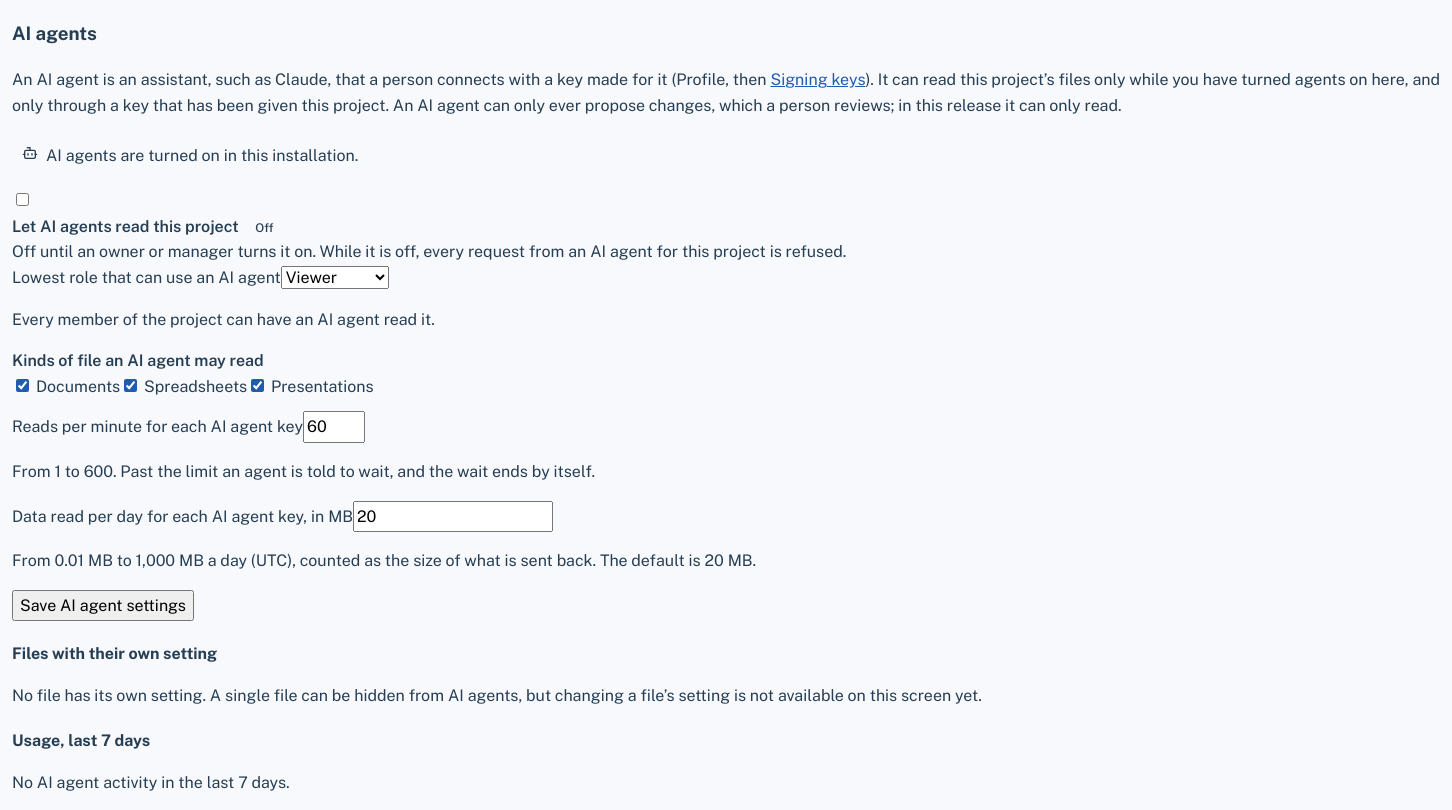
Test: ProjectAgentPolicy: saving › turns agents on with the full settings and the revision it loaded
This screenshot has width=1452, height=810.
Click the switch.
click(22, 200)  # box top-left (16, 193), bottom-right (29, 206)
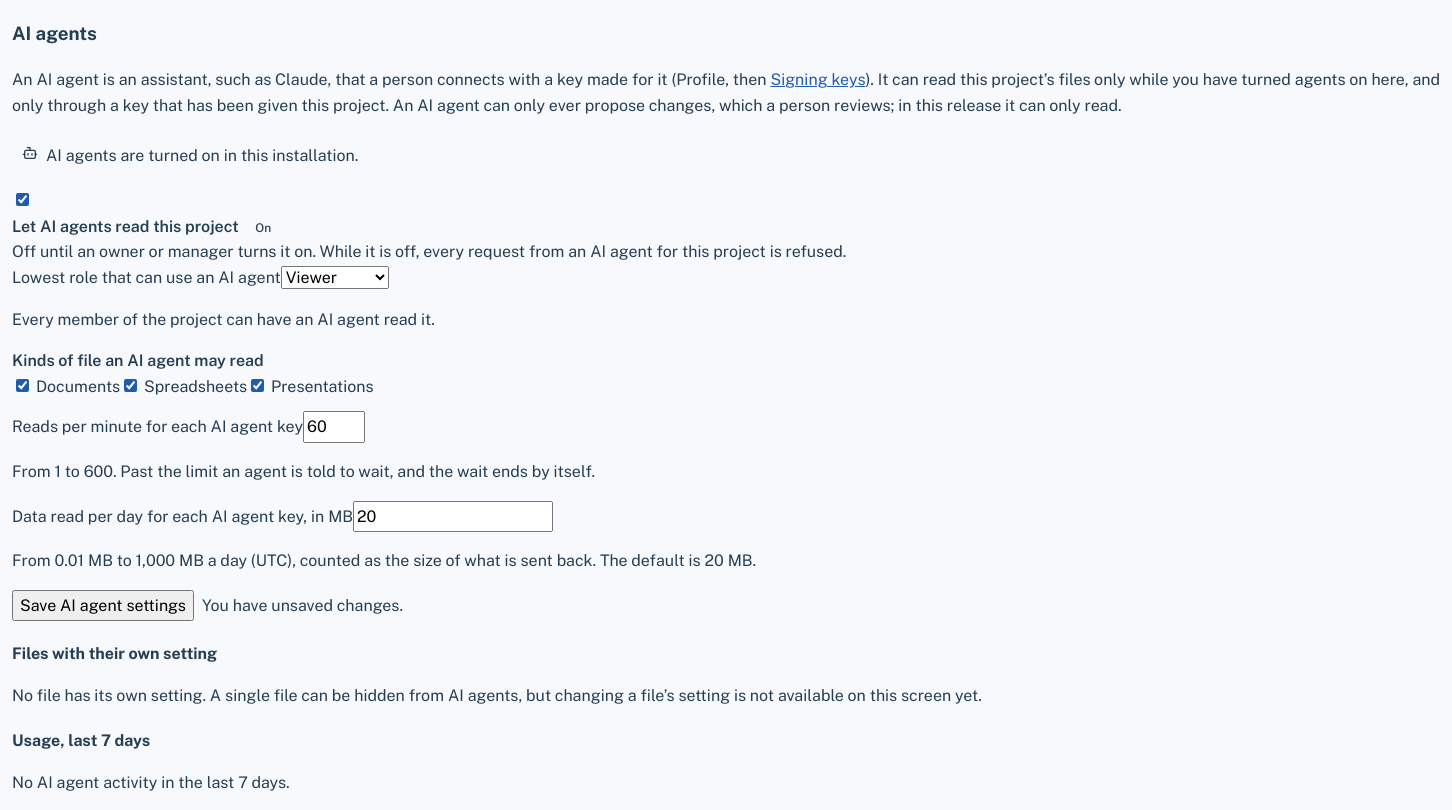
Result: the text "You have unsaved changes." is shown at top-left (202, 593), bottom-right (403, 618)
Click the button "Save AI agent settings".
click(103, 606)  # box top-left (12, 590), bottom-right (194, 621)
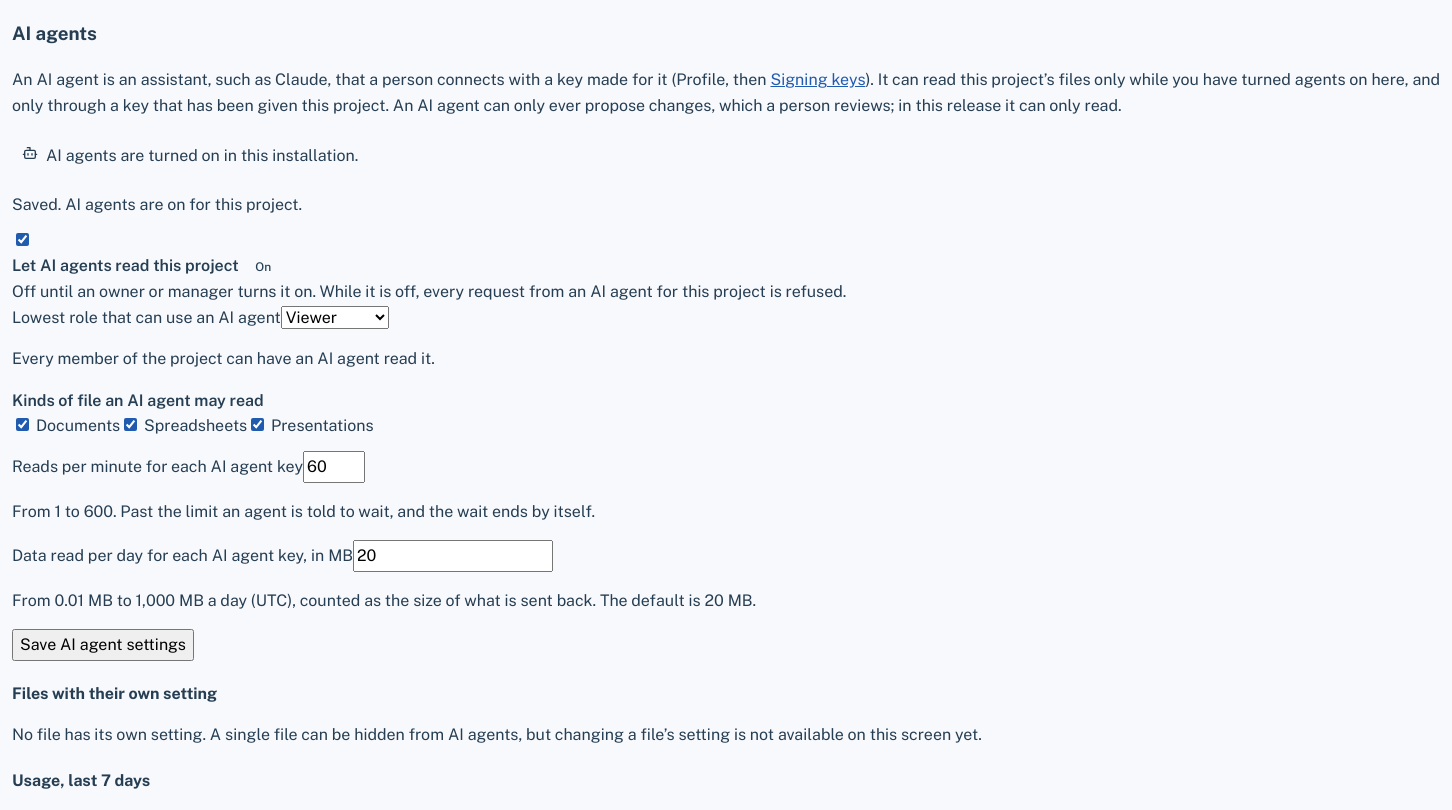
Result: the text with class "repo-notice" reads "Saved. AI agents are on for this project." at top-left (12, 195), bottom-right (302, 214)
Result: the text "You have unsaved changes." is gone
